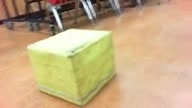cube: (27, 28, 117, 107)
